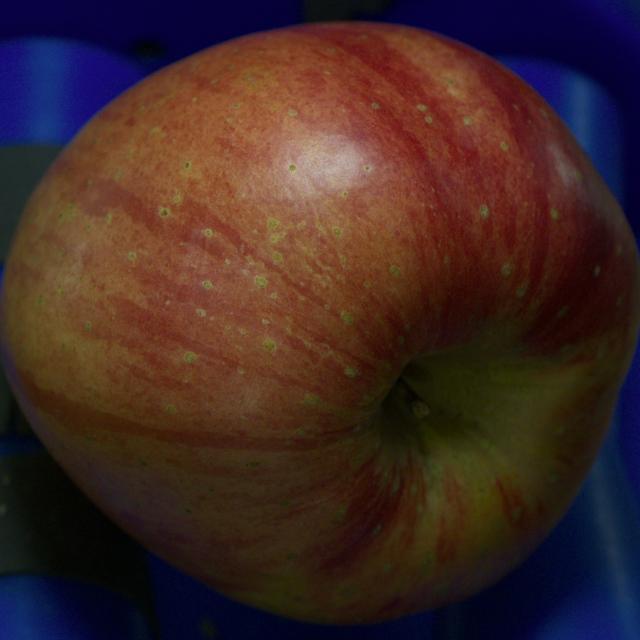apple: (0, 24, 639, 624)
